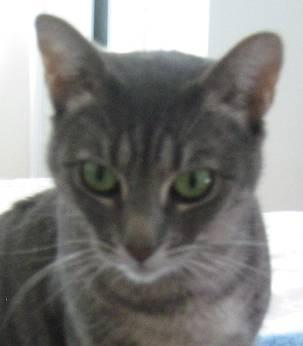cat: (0, 15, 282, 345)
